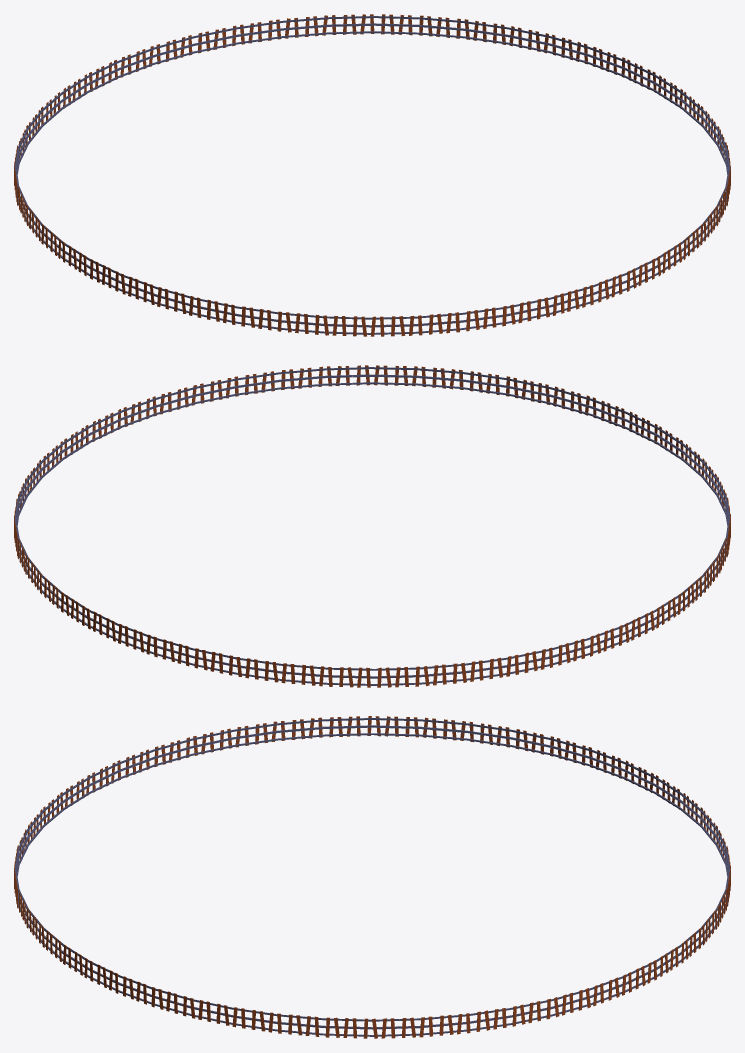
The model's file is SM_chemin fer.fbx.
3 renders of one model, top to bottom at view 1: azimuth 30°, elevation 25°; view 2: azimuth 150°, elevation 25°; view 3: azimuth 270°, elevation 25°, orthographic.
Visible parts, largest first — view 1: SM_CheminFER1; view 2: SM_CheminFER1; view 3: SM_CheminFER1.
Boxes of the visible parts, x1=… form: SM_CheminFER1: x1=14, y1=14, x2=730, y2=336; SM_CheminFER1: x1=14, y1=365, x2=730, y2=687; SM_CheminFER1: x1=14, y1=716, x2=730, y2=1038.
Size of the model in its own units: 14370 by 442 by 14367.
